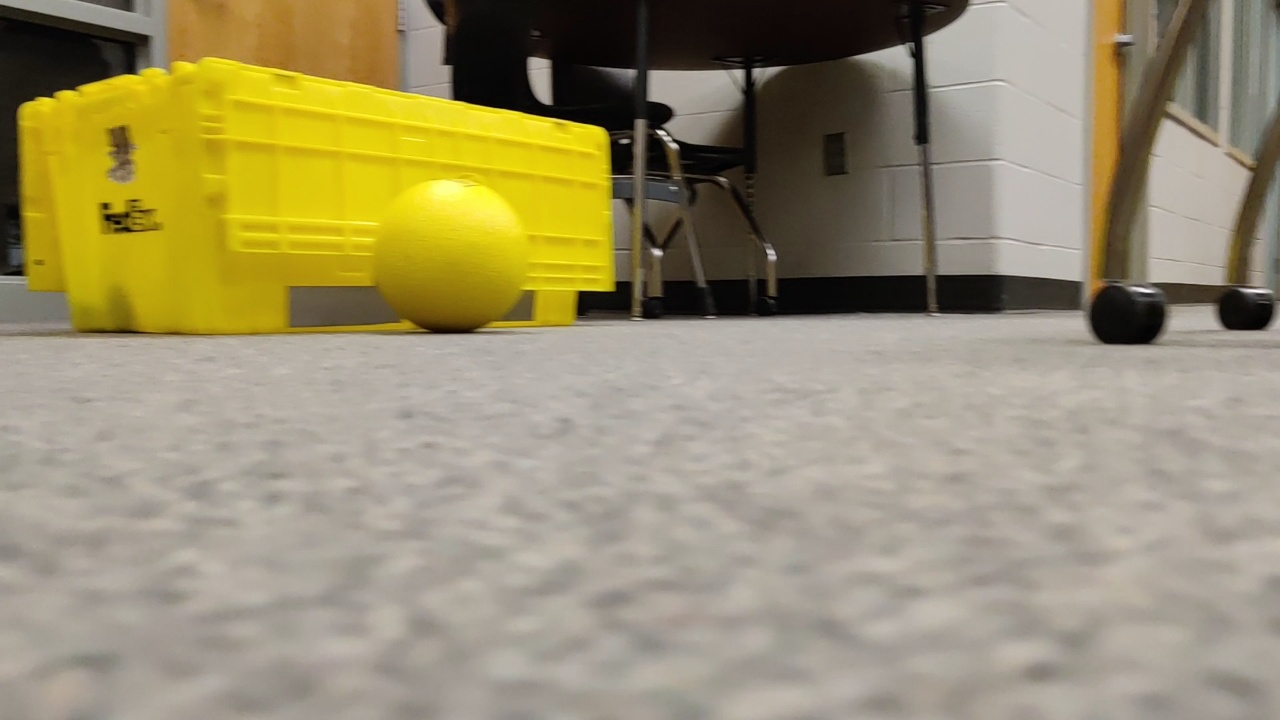Ball: (372, 178, 526, 331)
